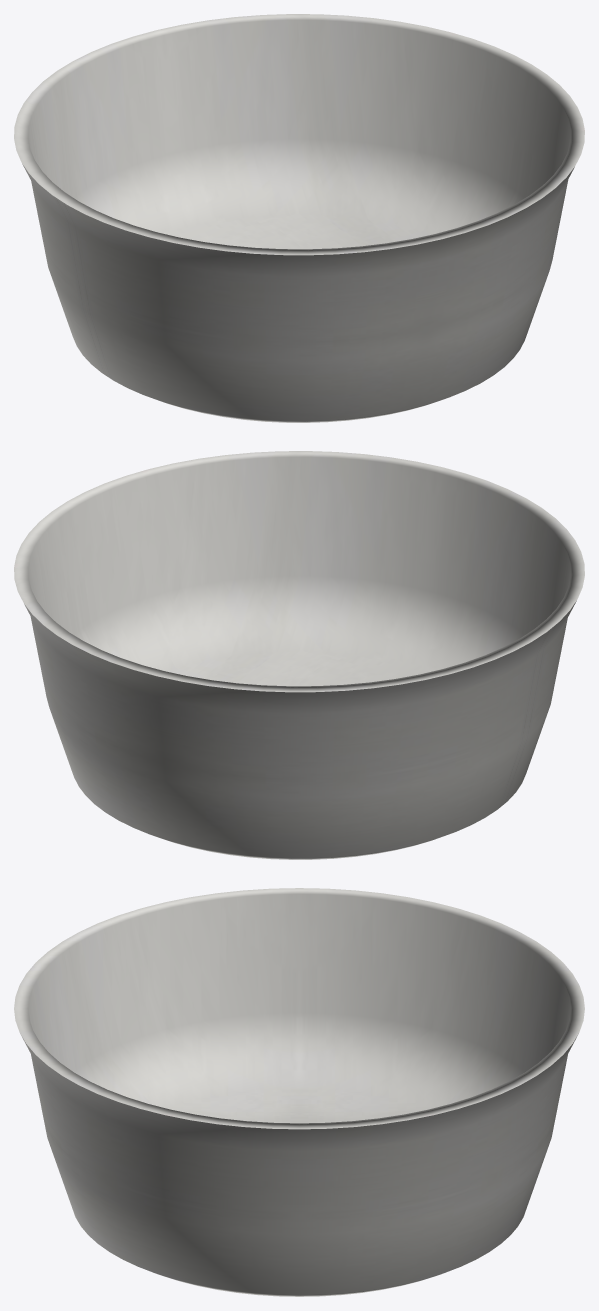
The model's file is CER-04.glb.
3 renders of one model, top to bottom at view 1: azimuth 30°, elevation 25°; view 2: azimuth 150°, elevation 25°; view 3: azimuth 270°, elevation 25°, orthographic.
Bounding box in the file's own units: 0.22 × 0.084 × 0.22.
2 materials, 2 textured.
